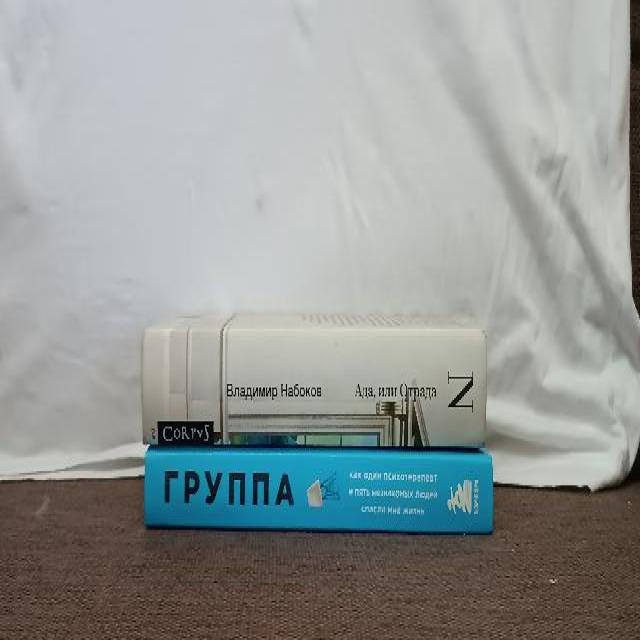book: (142, 330, 487, 447), (145, 456, 494, 530)
